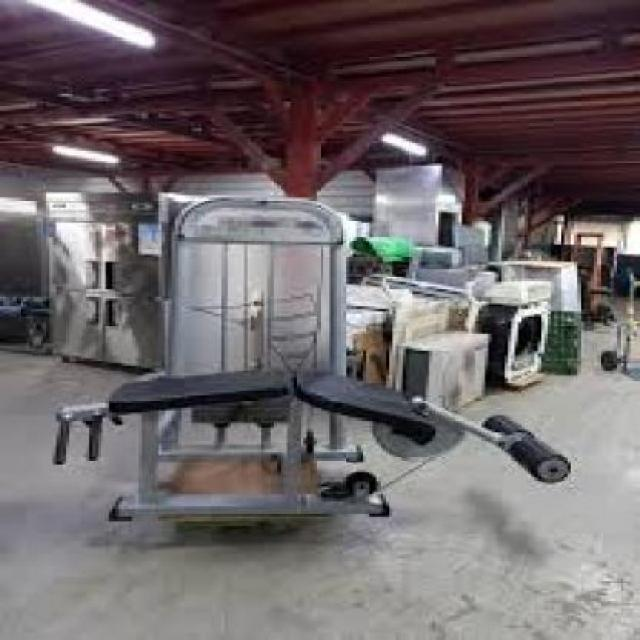reg curl machine: (46, 192, 580, 536)
